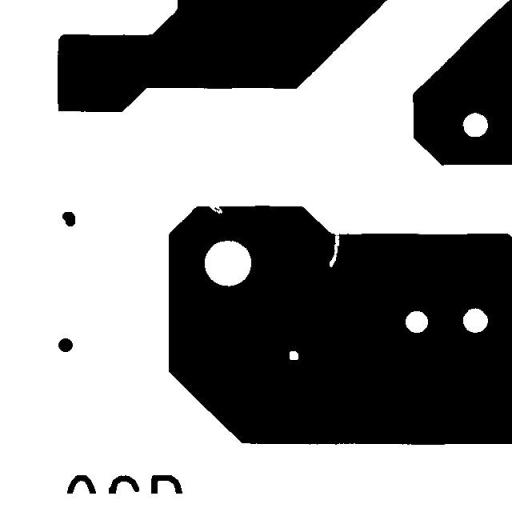copper: (50, 330, 80, 360), (54, 204, 82, 234)
mousebite: (322, 224, 346, 274), (200, 196, 230, 221)
pin-hole: (398, 303, 435, 340), (282, 343, 306, 367)
